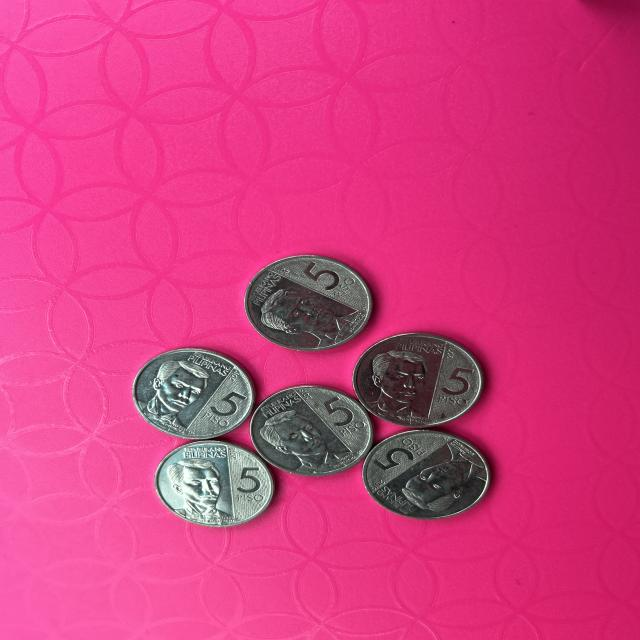5_New_Front: (301, 388, 362, 452), (371, 433, 434, 482), (295, 257, 361, 302), (195, 386, 251, 436), (437, 361, 480, 409), (236, 464, 270, 512)
